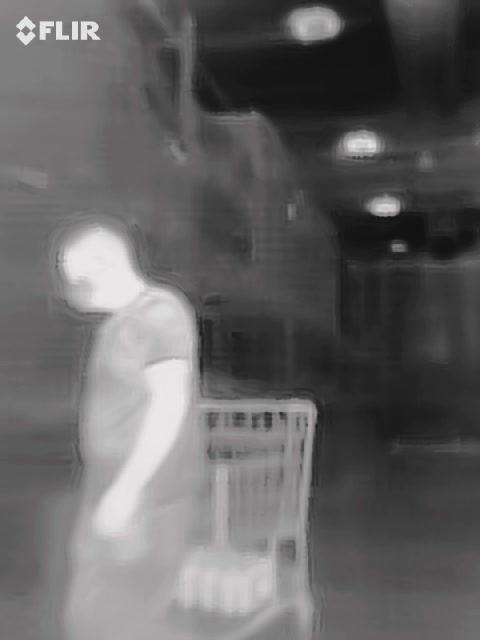head: (57, 224, 132, 312)
